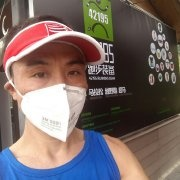Mask: (21, 54, 90, 122)
